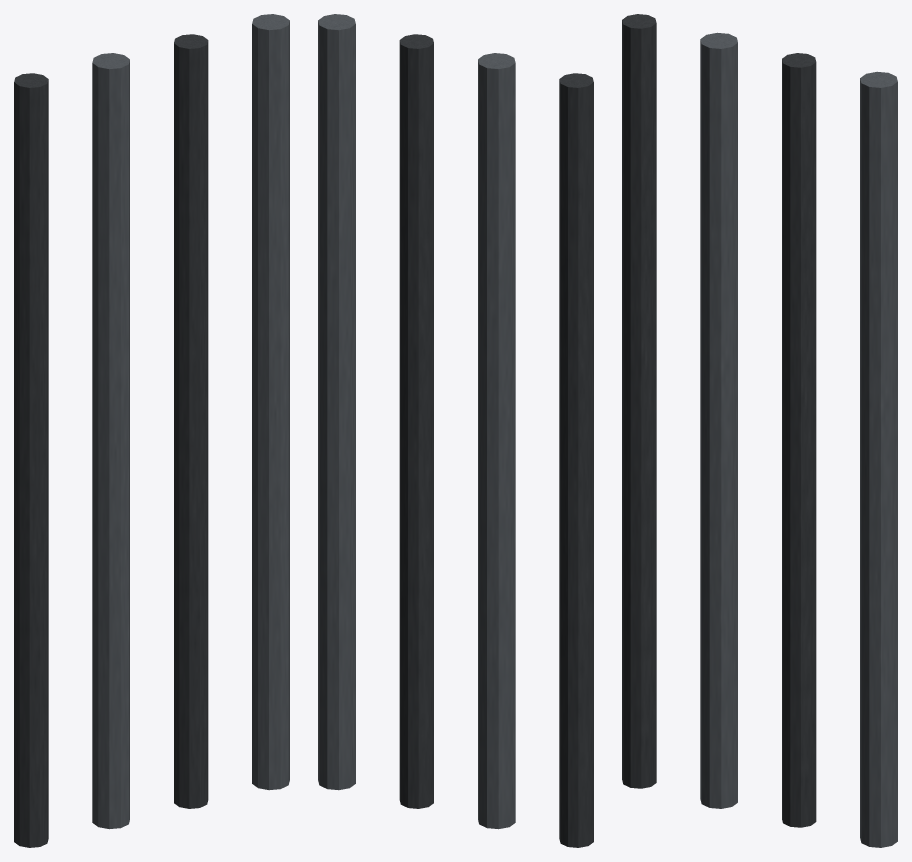
Rendered from electrical_panel_conduits.glb.
The picture shows the model from 3 angles, left to right: view 1: azimuth 30°, elevation 25°; view 2: azimuth 150°, elevation 25°; view 3: azimuth 330°, elevation 25°; orthographic projection.
Parts seen in each view (by area): view 1: electrical_panel_conduits; view 2: electrical_panel_conduits; view 3: electrical_panel_conduits.
Part boxes in pixels (left/top/right/bottom): electrical_panel_conduits: left=14, top=14, right=289, bottom=847; electrical_panel_conduits: left=318, top=14, right=593, bottom=847; electrical_panel_conduits: left=622, top=14, right=897, bottom=847.
Bounding box in the file's own units: 0.3718 × 1 × 0.046.
1 material, 1 textured.
